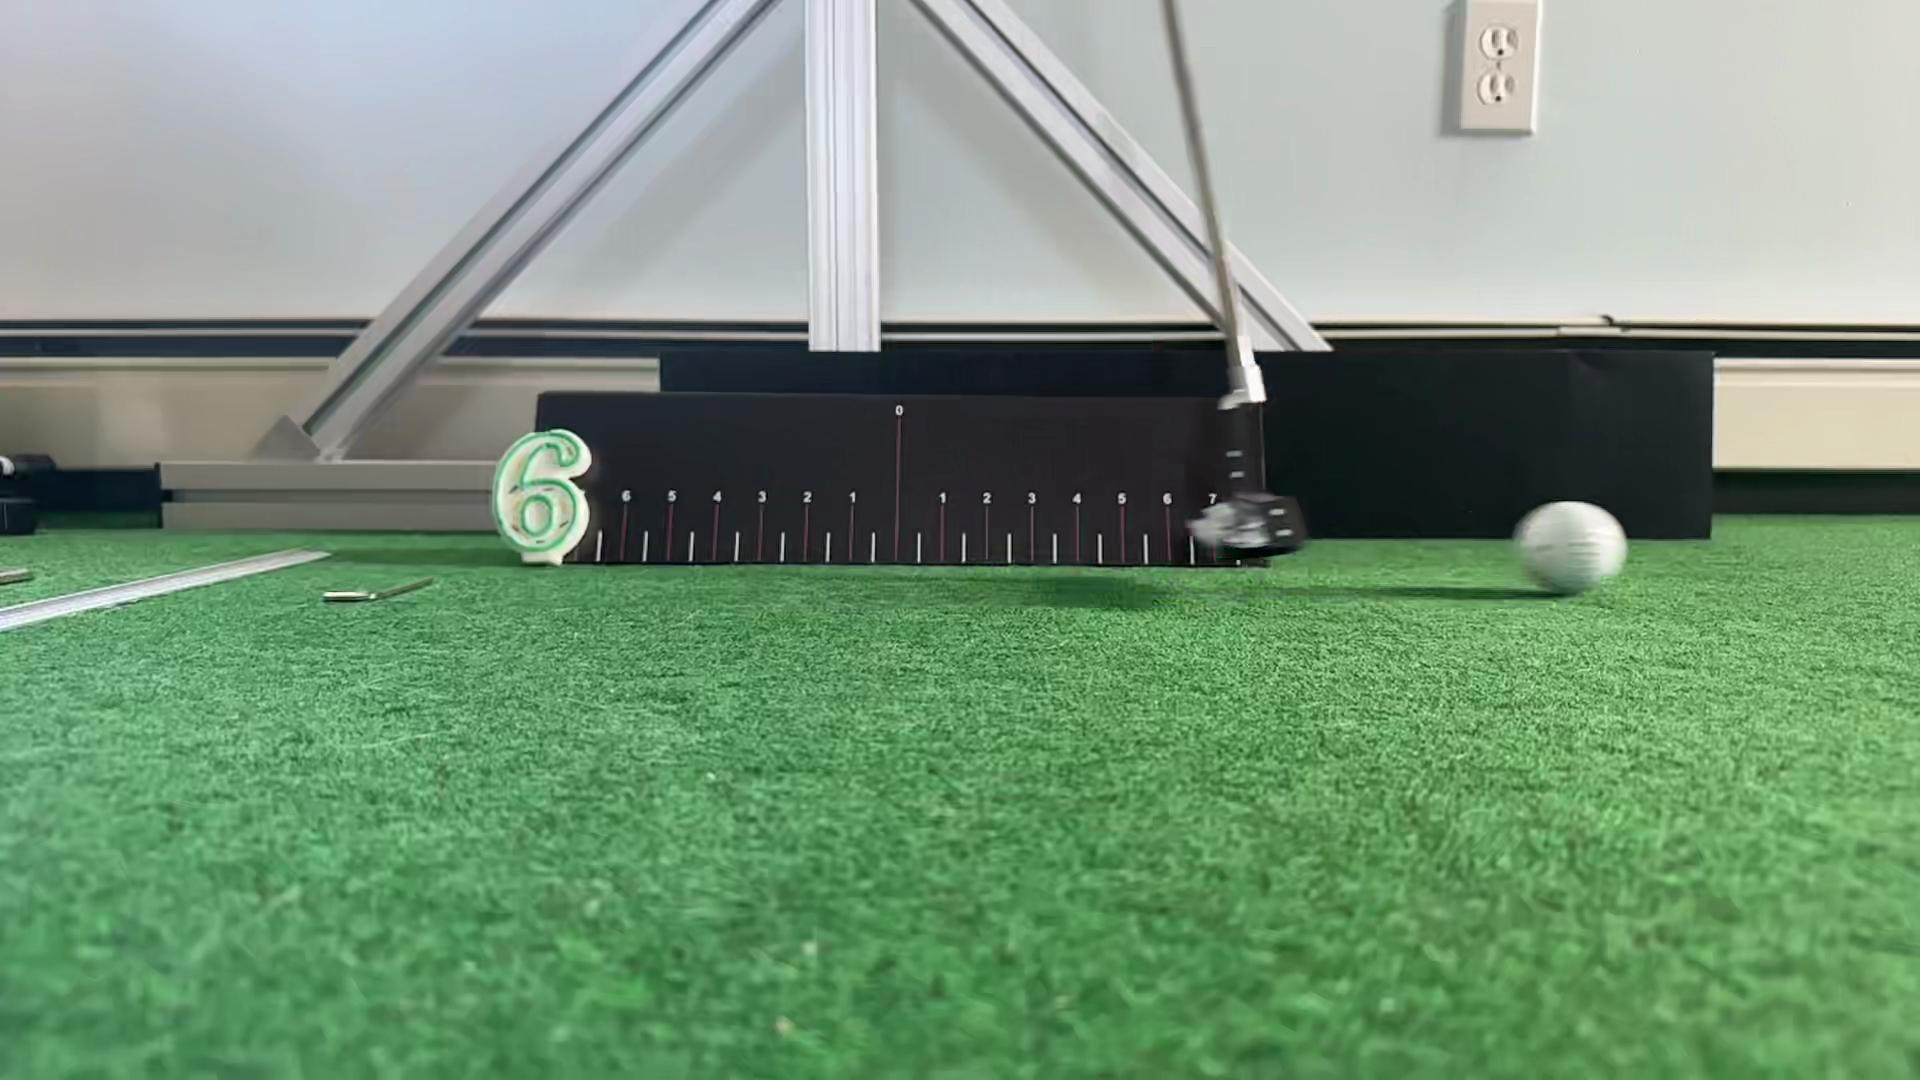golfball: (1517, 502, 1626, 593)
